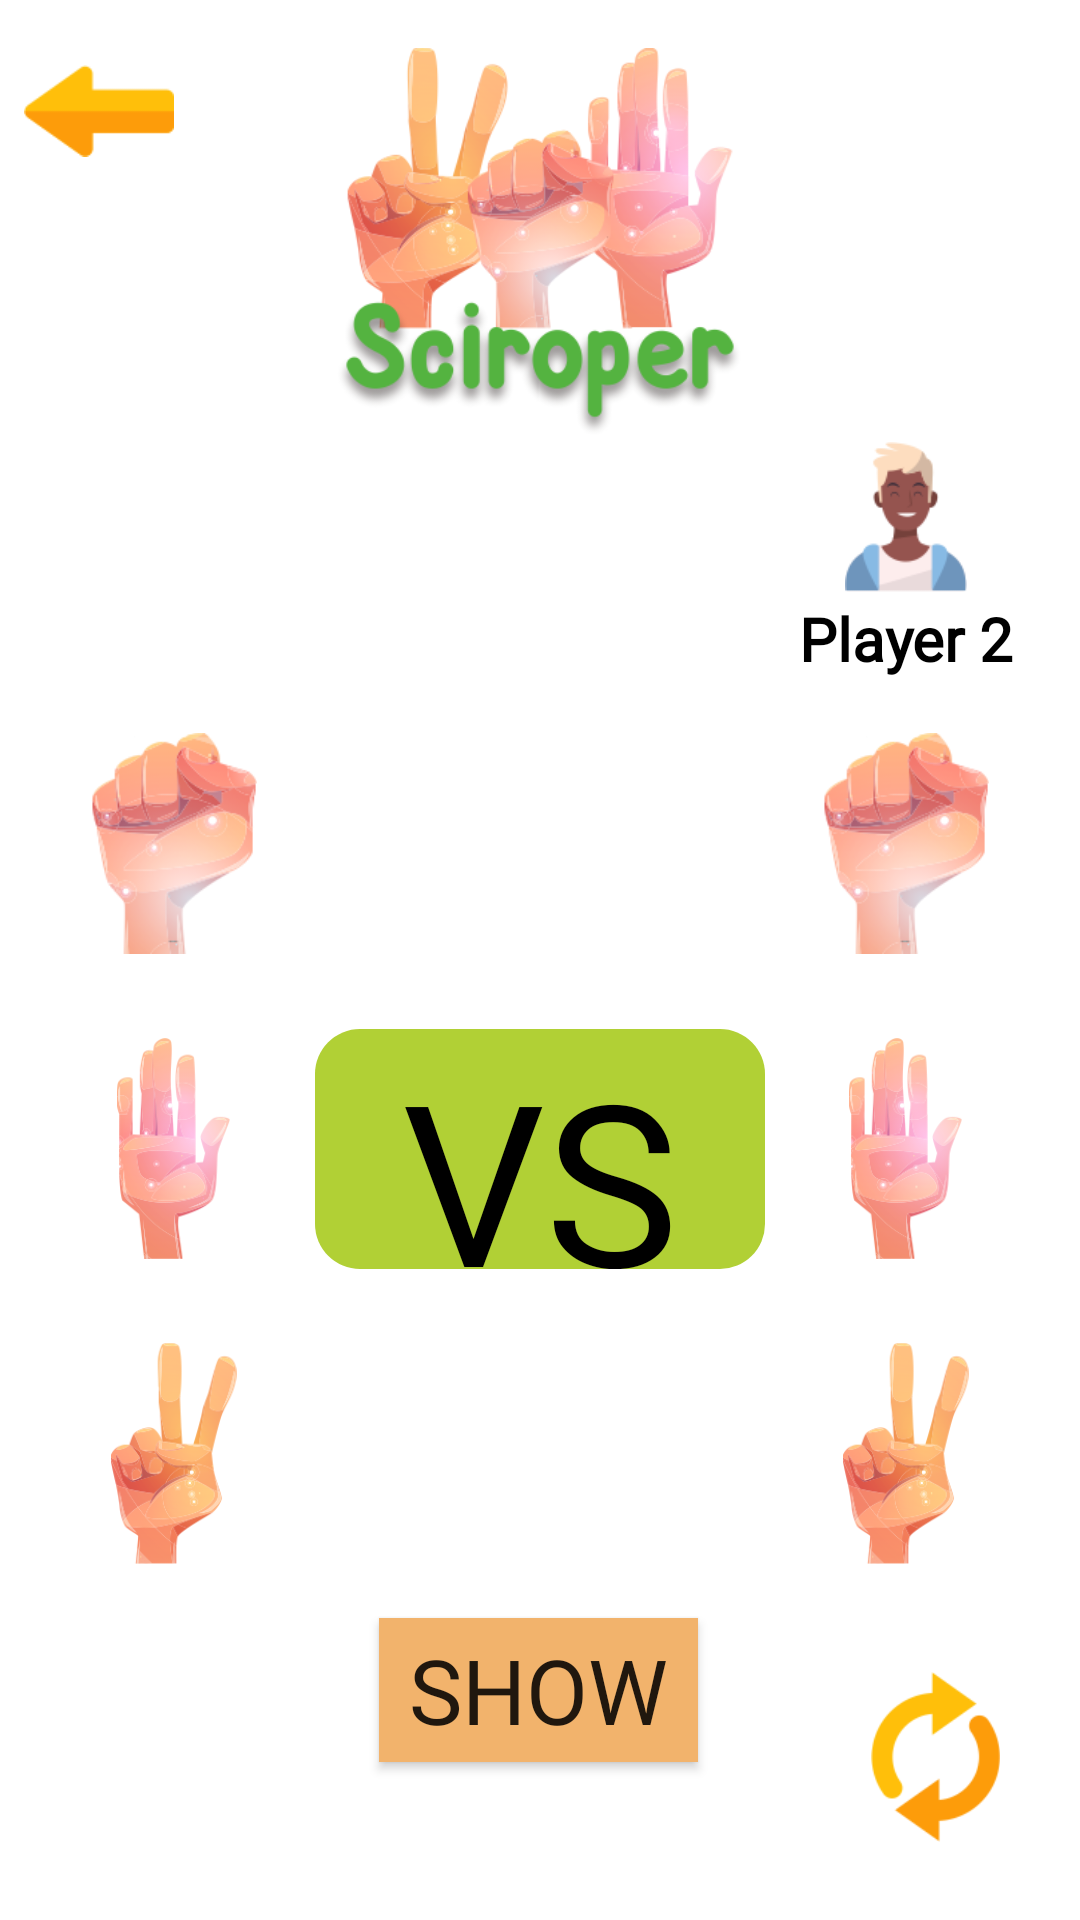

Where icons sit on this 1080px×1920px app screen, as (x1, y1, x2, y2):
back: (24, 65, 174, 157)
Paper: (117, 1038, 230, 1259), (849, 1038, 962, 1259)
refresh: (871, 1672, 1000, 1842)
Rock: (92, 733, 257, 954), (824, 733, 989, 954)
Scissors: (111, 1343, 237, 1564), (843, 1343, 969, 1564)
